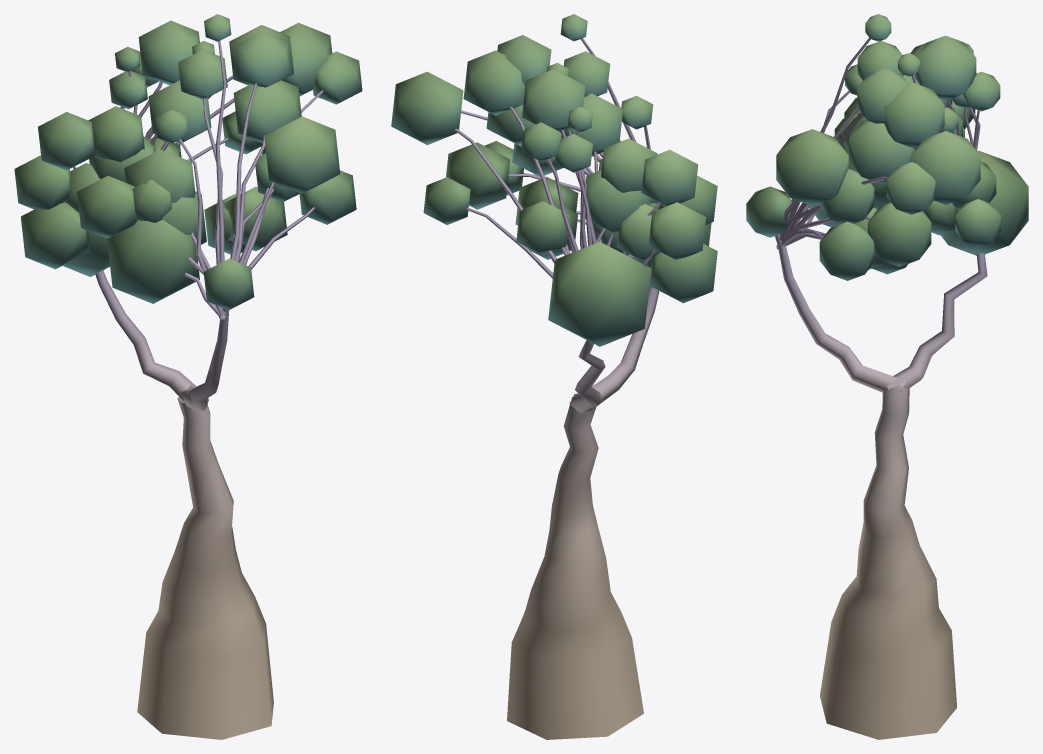
Rendered from seed_tree_l.glb.
3 renders of one model, left to right at view 1: azimuth 30°, elevation 25°; view 2: azimuth 150°, elevation 25°; view 3: azimuth 270°, elevation 25°, orthographic.
Parts seen in each view (by area): view 1: seed_tree_l_LOD0; view 2: seed_tree_l_LOD0; view 3: seed_tree_l_LOD0.
Boxes of the visible parts, x1,y1,x2,y2 form: seed_tree_l_LOD0: (14, 14, 362, 739); seed_tree_l_LOD0: (391, 14, 717, 739); seed_tree_l_LOD0: (746, 14, 1028, 739).
Size of what is drawn, in the model's own units: 7.34 by 15.19 by 5.56.
